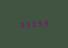eight: (42, 19, 47, 26)
nine: (36, 19, 41, 27)
three: (24, 20, 29, 28), (18, 21, 23, 28)
zero: (30, 20, 35, 27)
